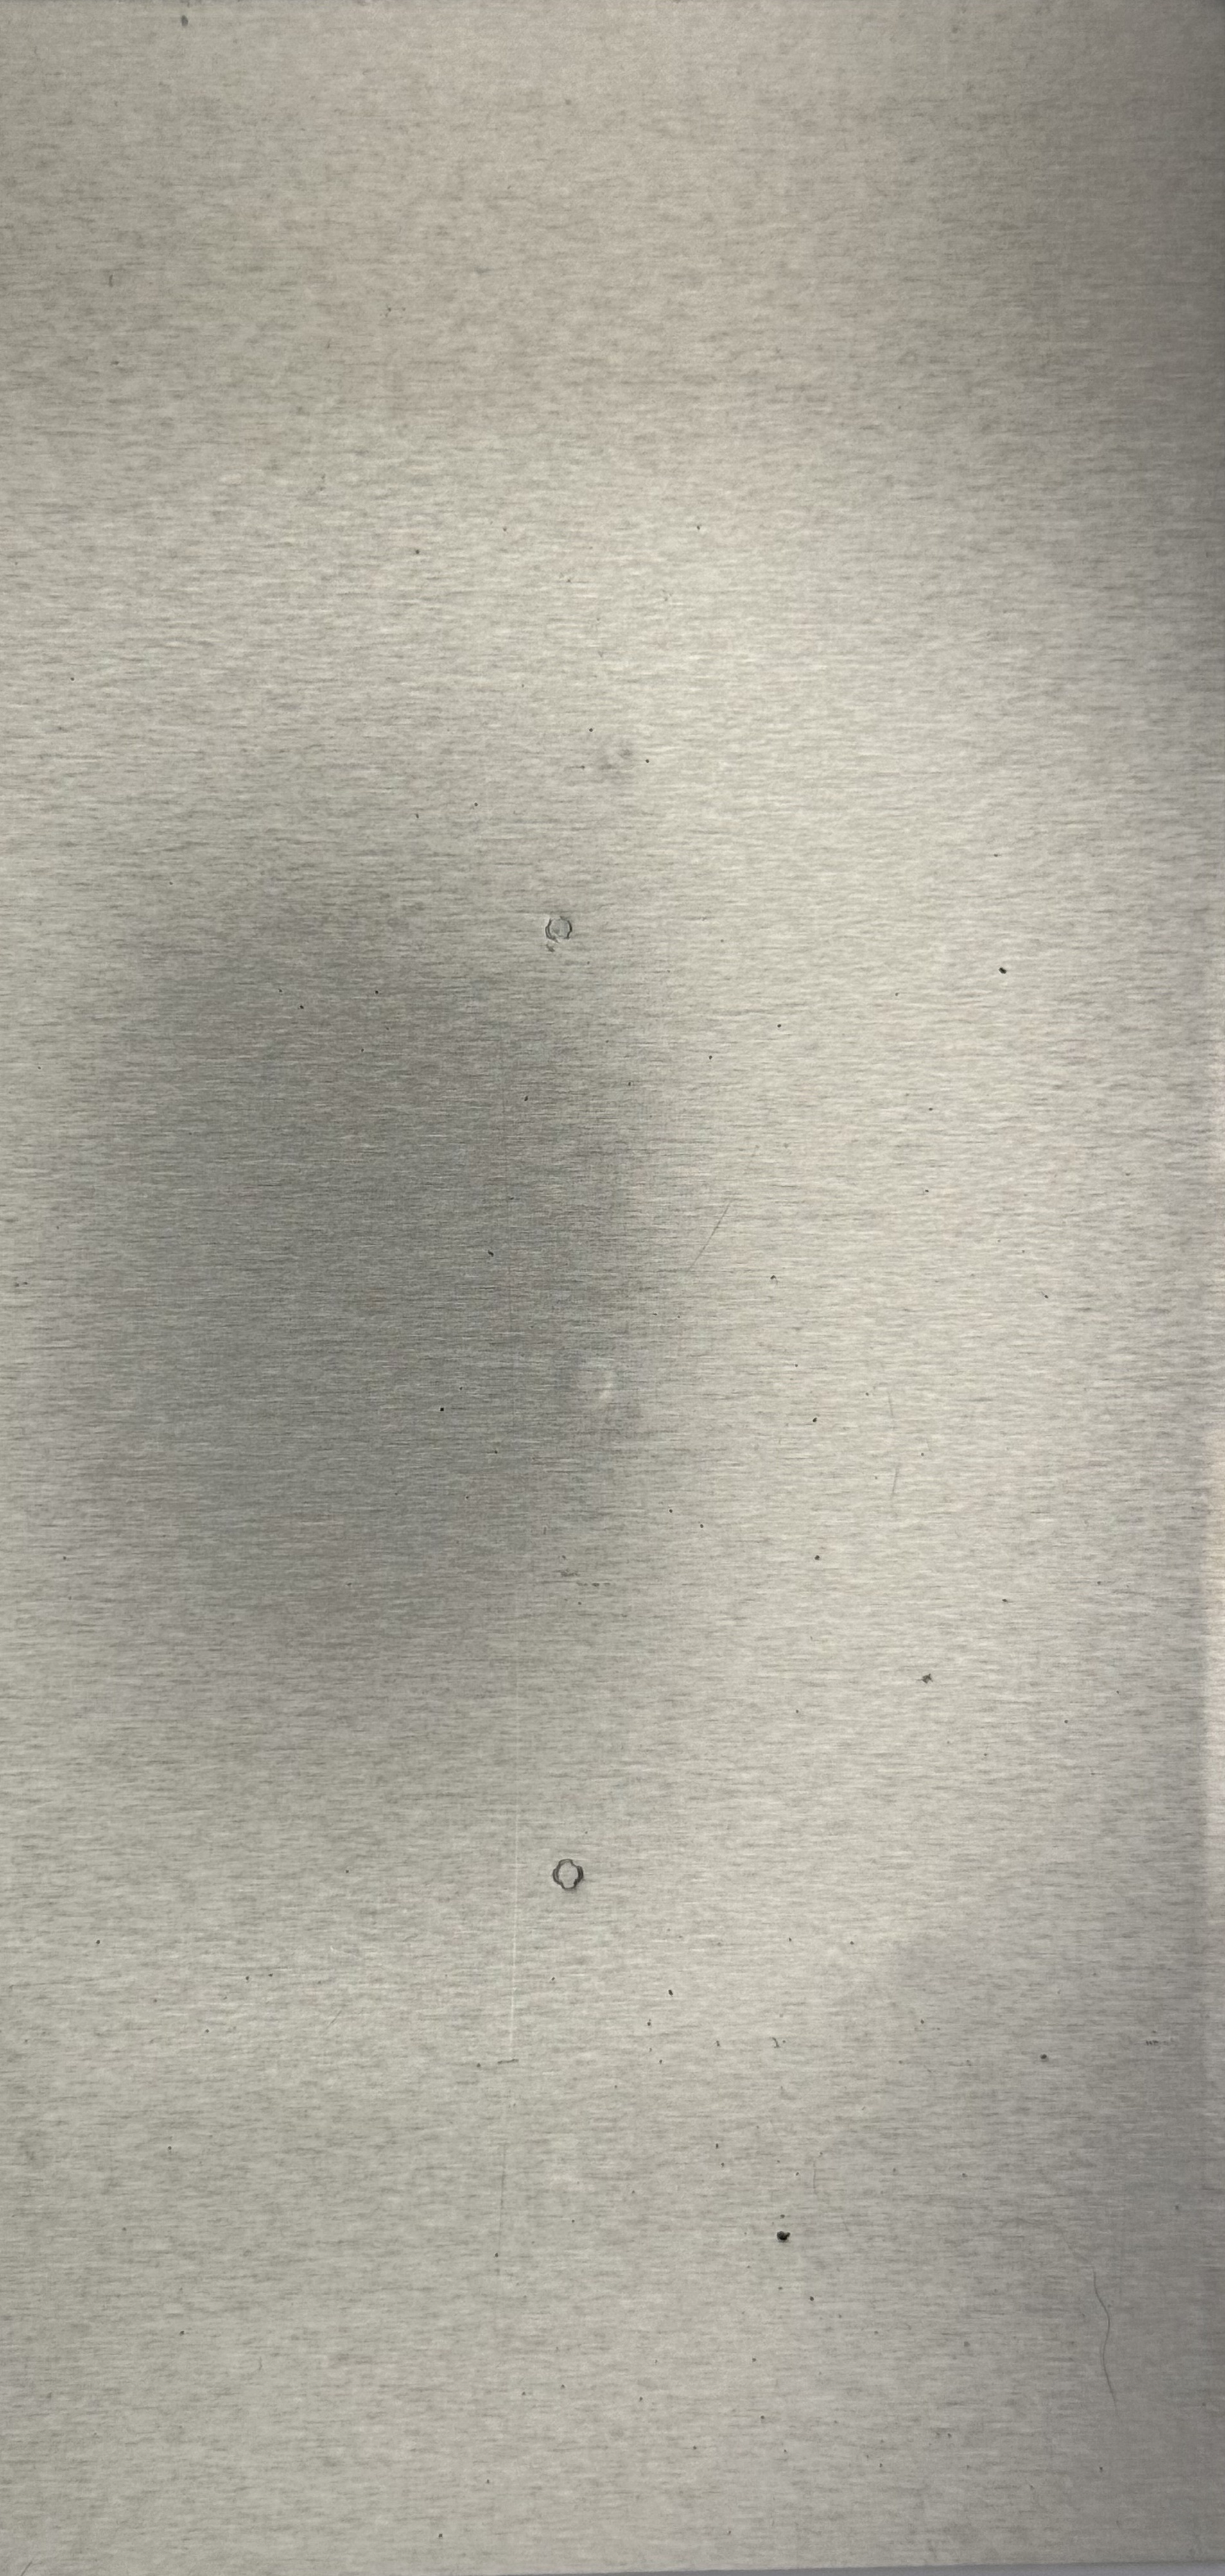Delle: (529, 1341, 667, 1446), (581, 721, 691, 803), (535, 1837, 616, 1922), (525, 894, 601, 964)
